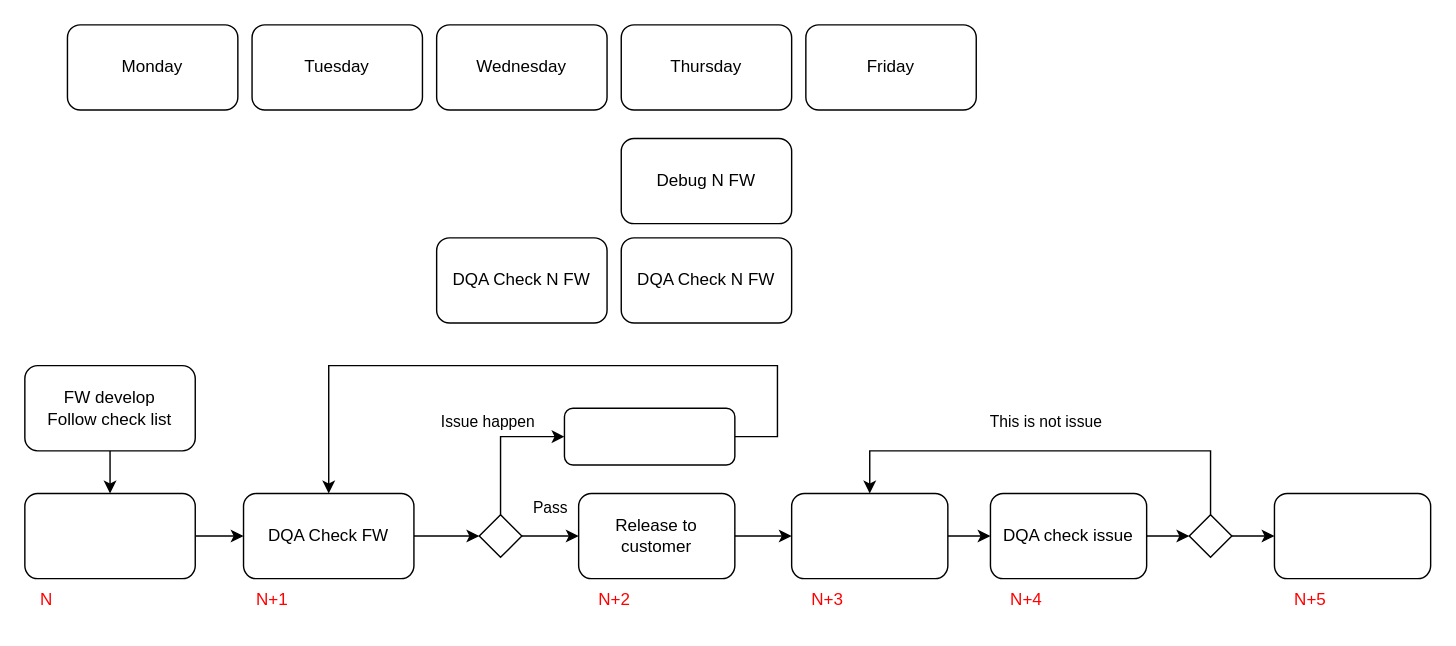
Image size: 1456x646. Some labels were removed from this diagram. The centre of each missing label's shape, as x and y in pixels:
"Add FW develop check list" belongs at [1352,535].
"Customer Feedback" belongs at [869,535].
"FW debug" belongs at [649,436].
"FW release" belongs at [109,535].
